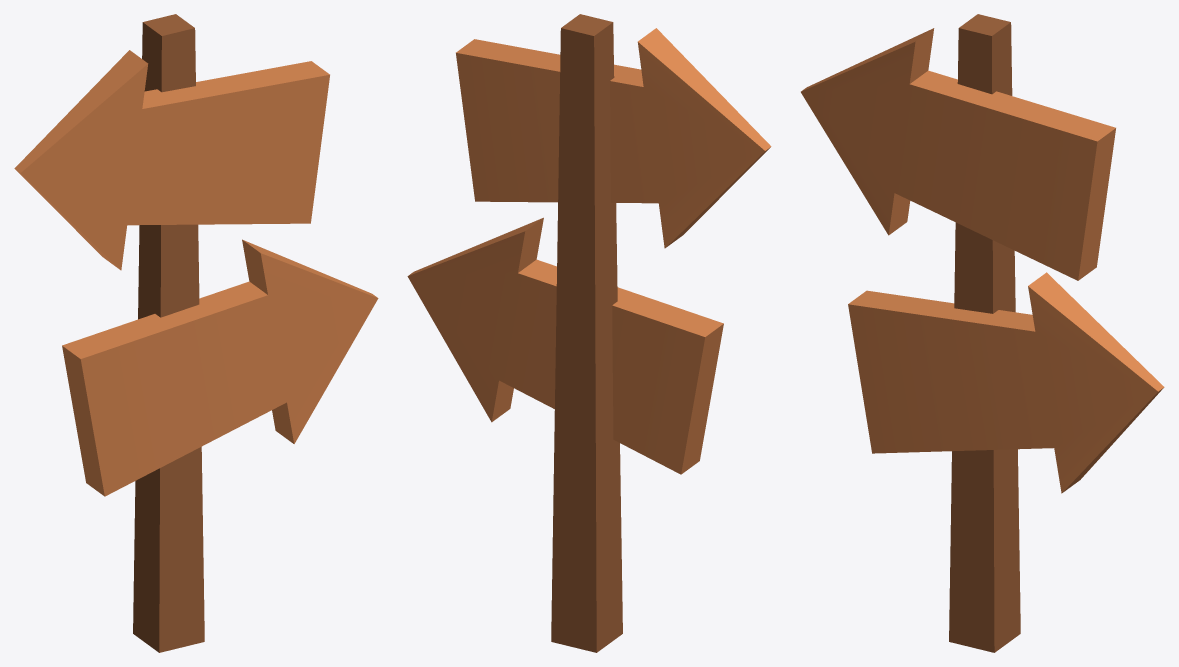
File: arrows.obj
The picture shows the model from 3 angles, left to right: view 1: azimuth 30°, elevation 25°; view 2: azimuth 150°, elevation 25°; view 3: azimuth 330°, elevation 25°; orthographic projection.
Visible parts, largest first — view 1: arrows; view 2: arrows; view 3: arrows.
Boxes of the visible parts, box(x1,y1,x2,y2) form: arrows: box(14, 14, 378, 652); arrows: box(407, 14, 771, 652); arrows: box(801, 14, 1164, 652).
Bounding box in the file's own units: 0.55 × 0.9 × 0.0998.
